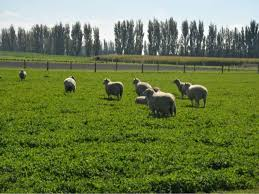sheep: (142, 89, 175, 118), (182, 83, 208, 107), (102, 79, 124, 102), (130, 78, 151, 97), (173, 77, 189, 99), (62, 75, 80, 93), (19, 69, 29, 82)
